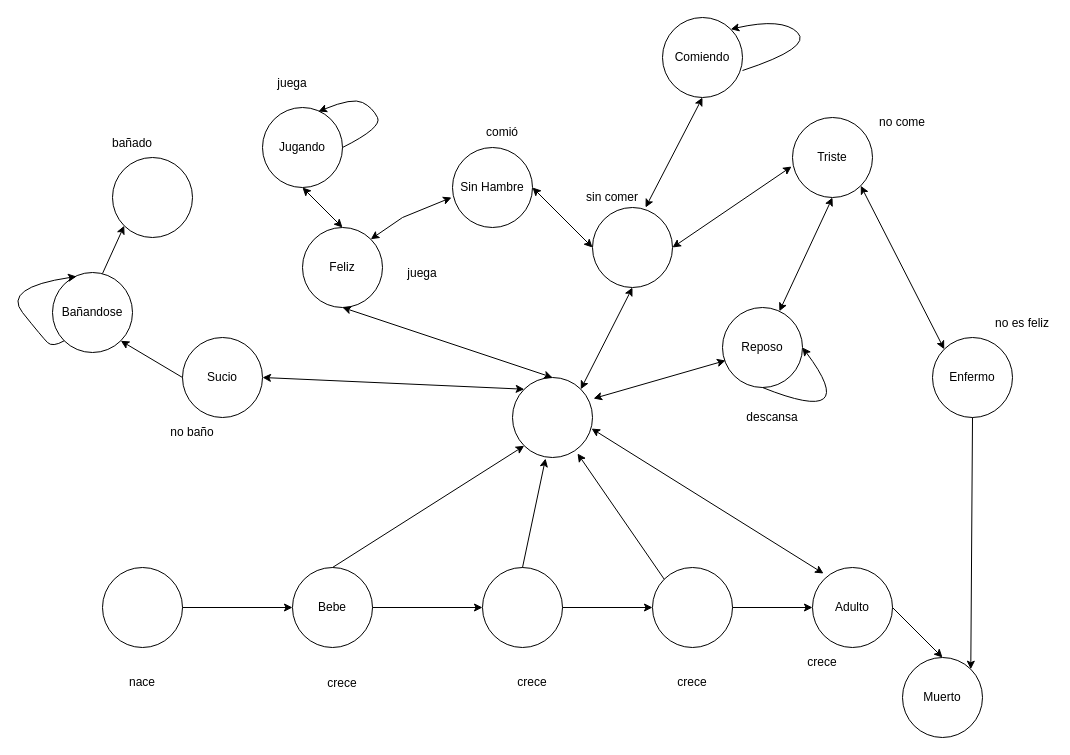
Image size: 1070x755. Some labels were removed from this diagram. The centre of each missing label's shape, as x and y in pixels:
"Adolecente" goes at point 692,607.
"Hambriento" goes at point 632,247.
"Huevo" goes at point 142,607.
"Limpio" goes at point 152,197.
"Niño" goes at point 522,607.
"Vivo" goes at point 552,417.
